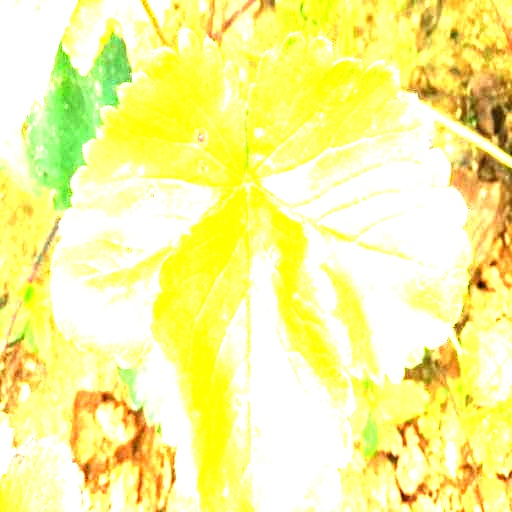Leaf Spot: (244, 30, 475, 390), (149, 176, 356, 511), (51, 27, 248, 371)
